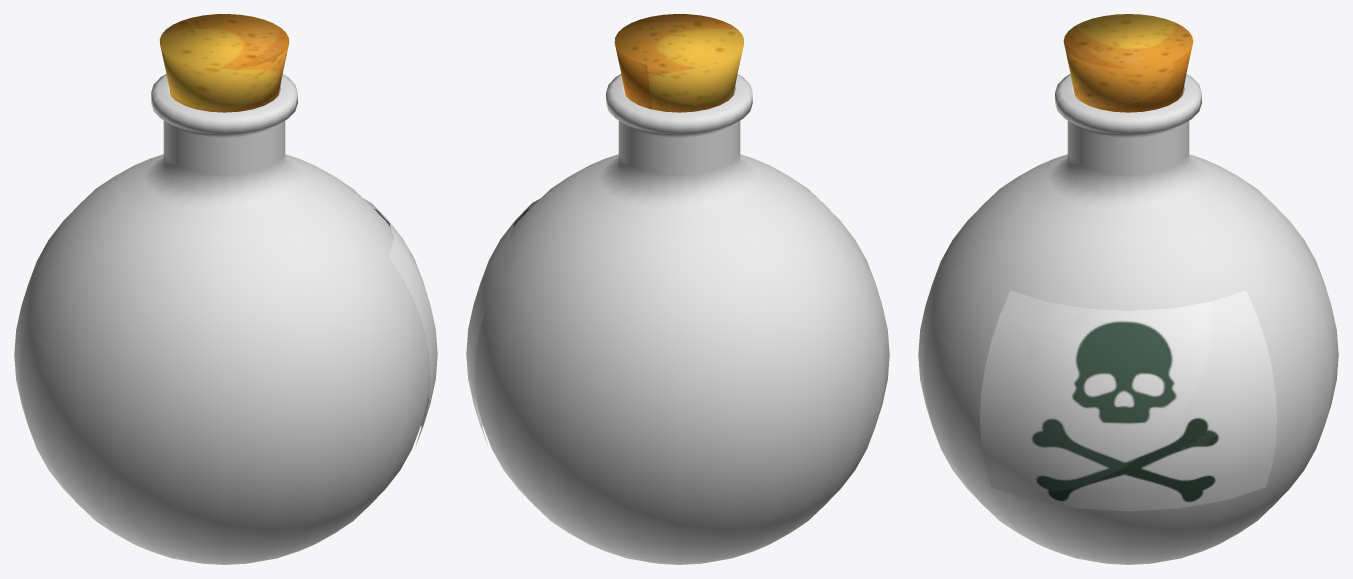
File: potion.fbx
The picture shows the model from 3 angles, left to right: view 1: azimuth 30°, elevation 25°; view 2: azimuth 150°, elevation 25°; view 3: azimuth 270°, elevation 25°; orthographic projection.
Parts seen in each view (by area): view 1: bottle, label_cork_filling; view 2: bottle, label_cork_filling; view 3: bottle, label_cork_filling.
Part boxes in pixels (<box>): bottle: <box>14,74,430,564</box>; label_cork_filling: <box>159,14,437,445</box>; bottle: <box>473,74,889,564</box>; label_cork_filling: <box>466,14,744,445</box>; bottle: <box>918,74,1338,564</box>; label_cork_filling: <box>980,14,1276,511</box>.
Bounding box in the file's own units: 24.43 × 32.06 × 24.23.
